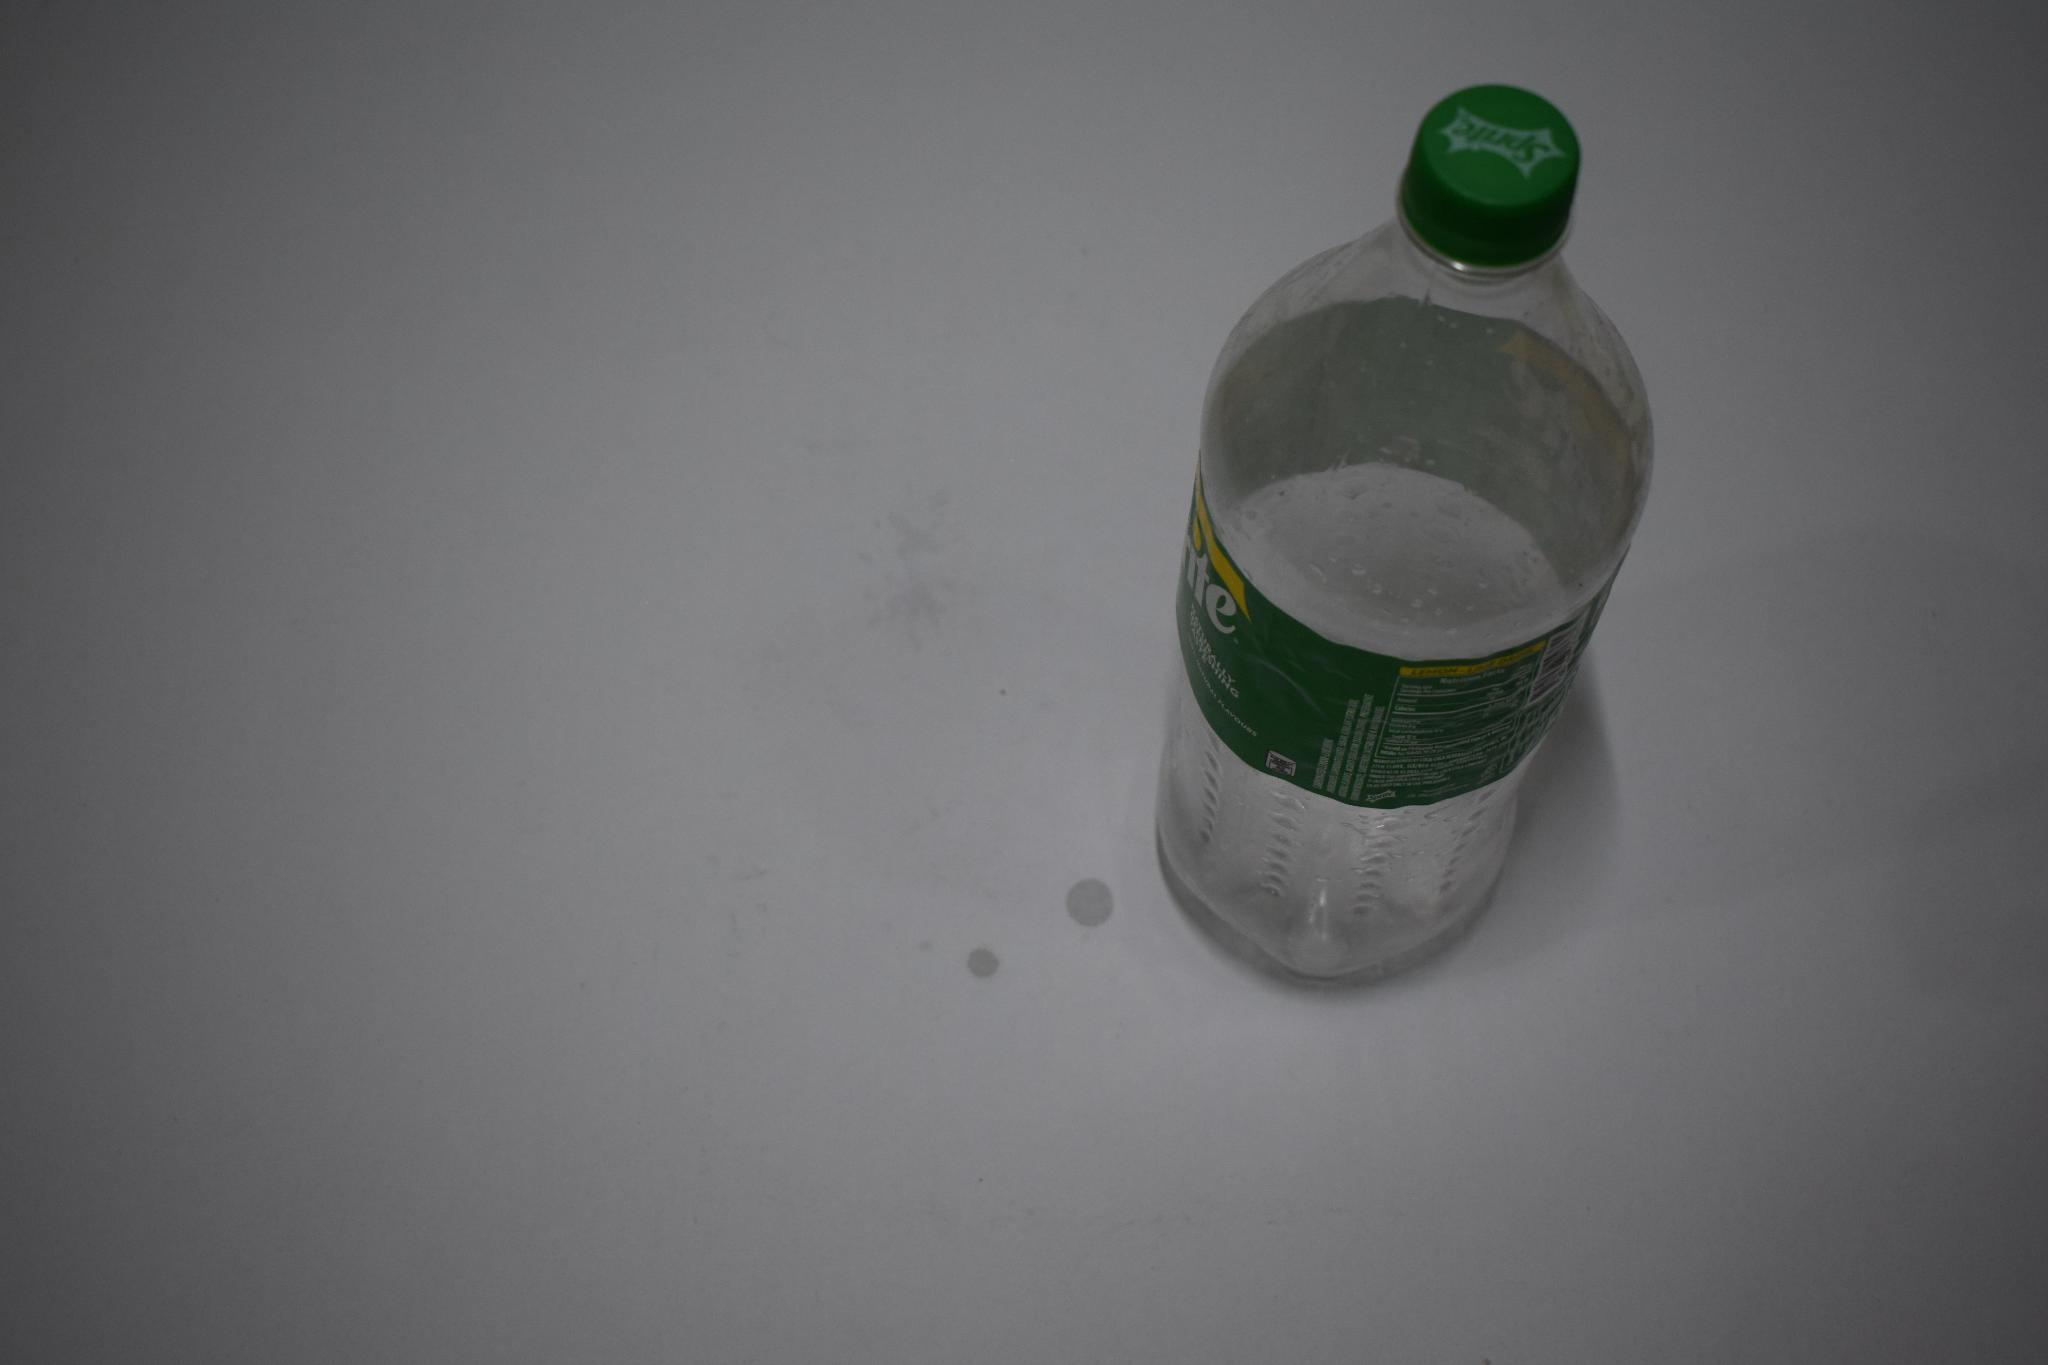bottle: (1154, 76, 1680, 1036)
